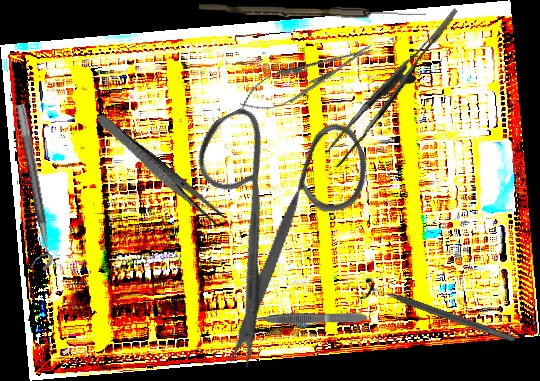Dressing Forceps: (92, 111, 228, 229)
Fixation Ring: (358, 275, 520, 352), (2, 103, 55, 273)
Iris Scissors: (132, 68, 426, 374)
Needle Holder: (234, 32, 379, 123)
Surgical Spoon: (198, 4, 427, 19)
Tissue Forceps: (310, 8, 482, 168), (246, 312, 367, 324)
